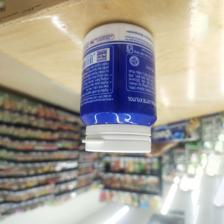Xylitol_blue: (77, 19, 158, 156)
